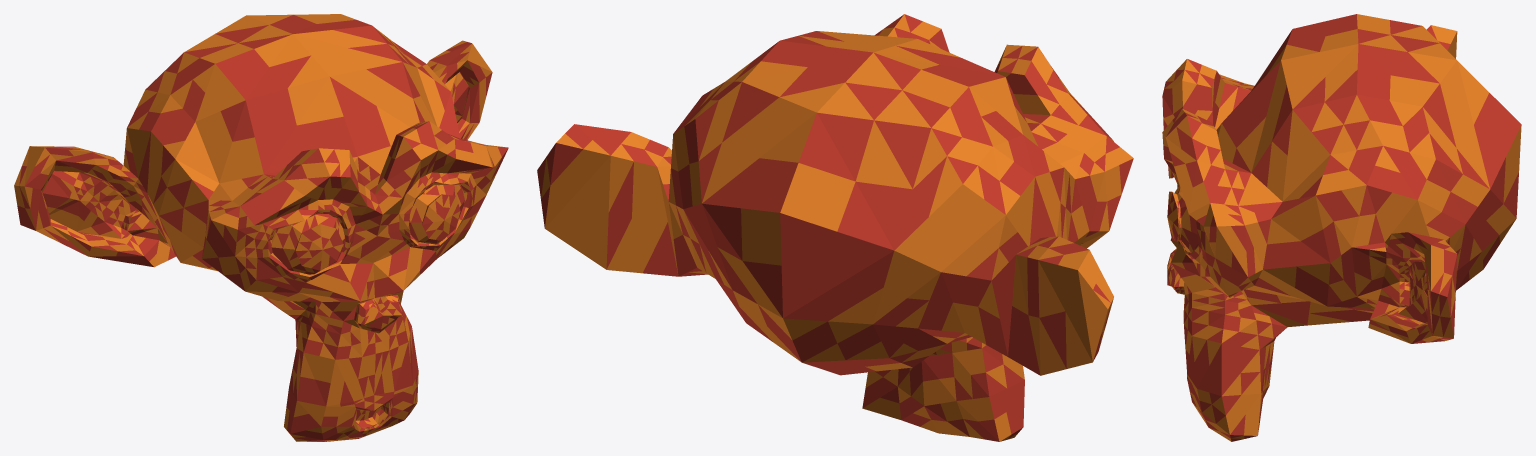
File: monkey.obj
The picture shows the model from 3 angles, left to right: view 1: azimuth 30°, elevation 25°; view 2: azimuth 150°, elevation 25°; view 3: azimuth 270°, elevation 25°; orthographic projection. The views are drawn at different scales.
Parts seen in each view (by area): view 1: Monkey_Suzanne; view 2: Monkey_Suzanne; view 3: Monkey_Suzanne.
Part boxes in pixels (x1=…): Monkey_Suzanne: x1=14, y1=14, x2=508, y2=441; Monkey_Suzanne: x1=537, y1=14, x2=1133, y2=441; Monkey_Suzanne: x1=1162, y1=14, x2=1521, y2=441.
Bounding box in the file's own units: 2.73 × 1.97 × 1.7.
